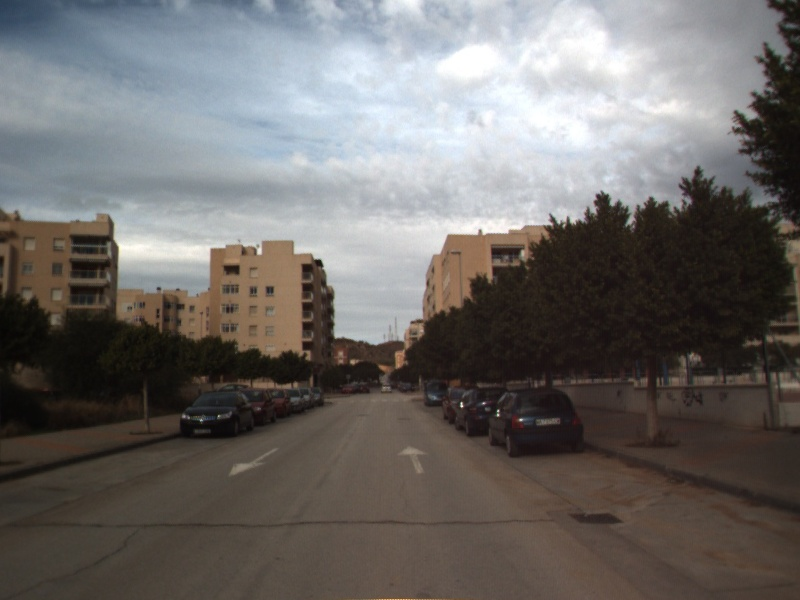STRAIGHT: (395, 444, 431, 476)
